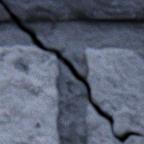brick: (0, 46, 60, 143)
broken_brick: (86, 49, 143, 143), (0, 0, 143, 24)
crack: (2, 2, 142, 142)
